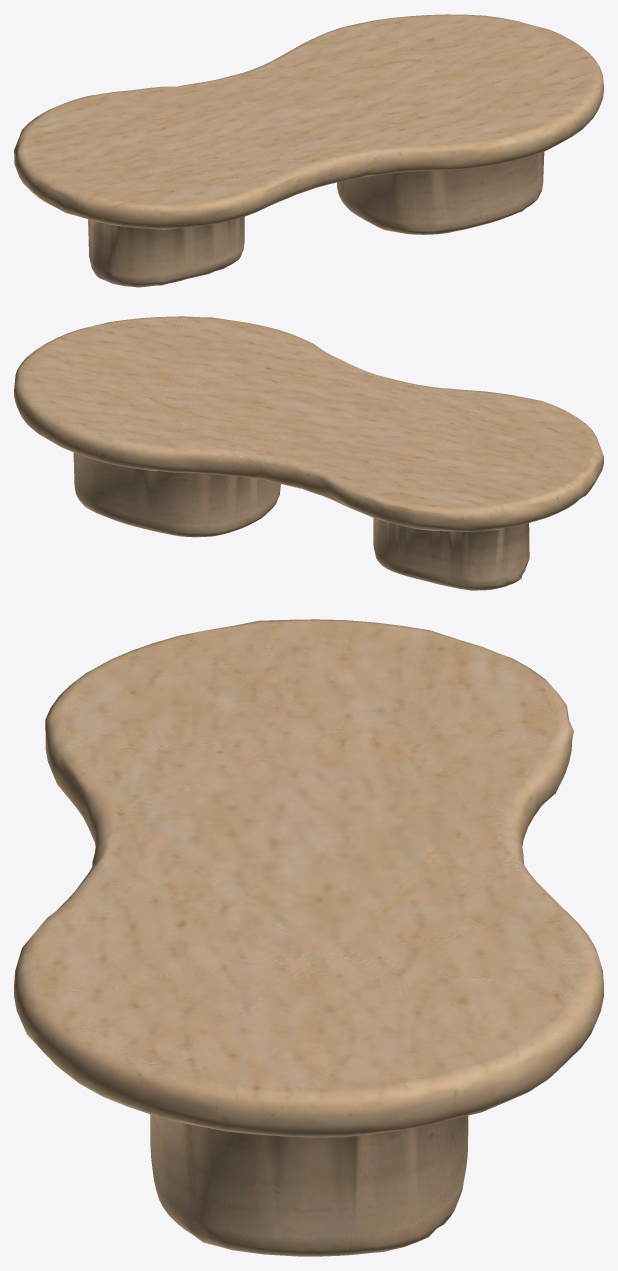
File: pebble-table-v2.glb
The picture shows the model from 3 angles, top to bottom: view 1: azimuth 30°, elevation 25°; view 2: azimuth 150°, elevation 25°; view 3: azimuth 270°, elevation 25°; orthographic projection. The views are drawn at different scales.
Visible parts, largest first — view 1: geometry_0; view 2: geometry_0; view 3: geometry_0.
Part boxes in pixels (<box>): geometry_0: <box>14,14,603,287</box>; geometry_0: <box>14,316,603,590</box>; geometry_0: <box>14,619,603,1256</box>.
Bounding box in the file's own units: 0.9541 × 0.1978 × 0.4897.
1 material, 1 textured.
